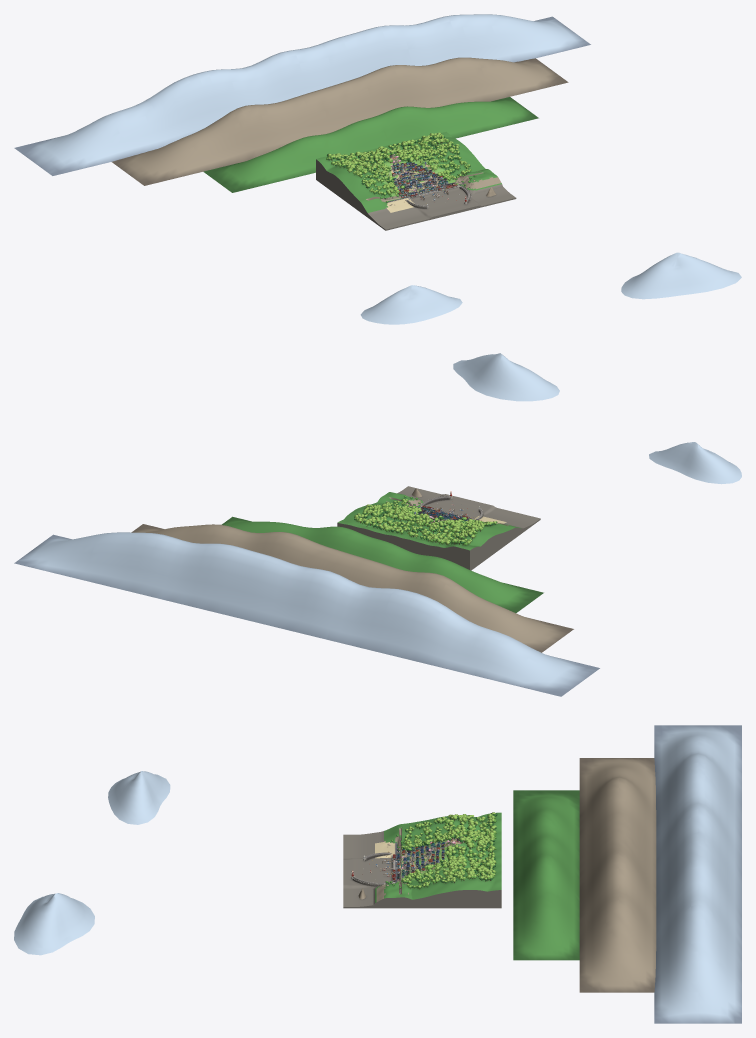
File: town.glb
The picture shows the model from 3 angles, top to bottom: view 1: azimuth 30°, elevation 25°; view 2: azimuth 150°, elevation 25°; view 3: azimuth 270°, elevation 25°; orthographic projection. The views are drawn at different scales.
Visible parts, largest first — view 1: static_background, terrain_main, anim_tree_zone4, static_town_east, anim_tree_zone3, static_coastal; view 2: static_background, terrain_main, anim_tree_zone4; view 3: static_background, terrain_main, anim_tree_zone4, anim_tree_zone3, static_town_east.
Boxes of the visible parts, x1,y1,x2,y2 form: static_background: (14, 14, 741, 324); terrain_main: (316, 131, 516, 230); anim_tree_zone4: (326, 132, 459, 174); static_town_east: (329, 138, 475, 205); anim_tree_zone3: (355, 154, 470, 187); static_coastal: (387, 159, 463, 202); static_background: (14, 353, 741, 696); terrain_main: (337, 486, 540, 570); anim_tree_zone4: (354, 504, 484, 545); static_background: (14, 725, 741, 1023); terrain_main: (343, 812, 501, 908); anim_tree_zone4: (440, 812, 497, 882); anim_tree_zone3: (416, 818, 443, 888); static_town_east: (382, 819, 493, 889).
Bounding box in the file's own units: 1650 × 154 × 1703.
